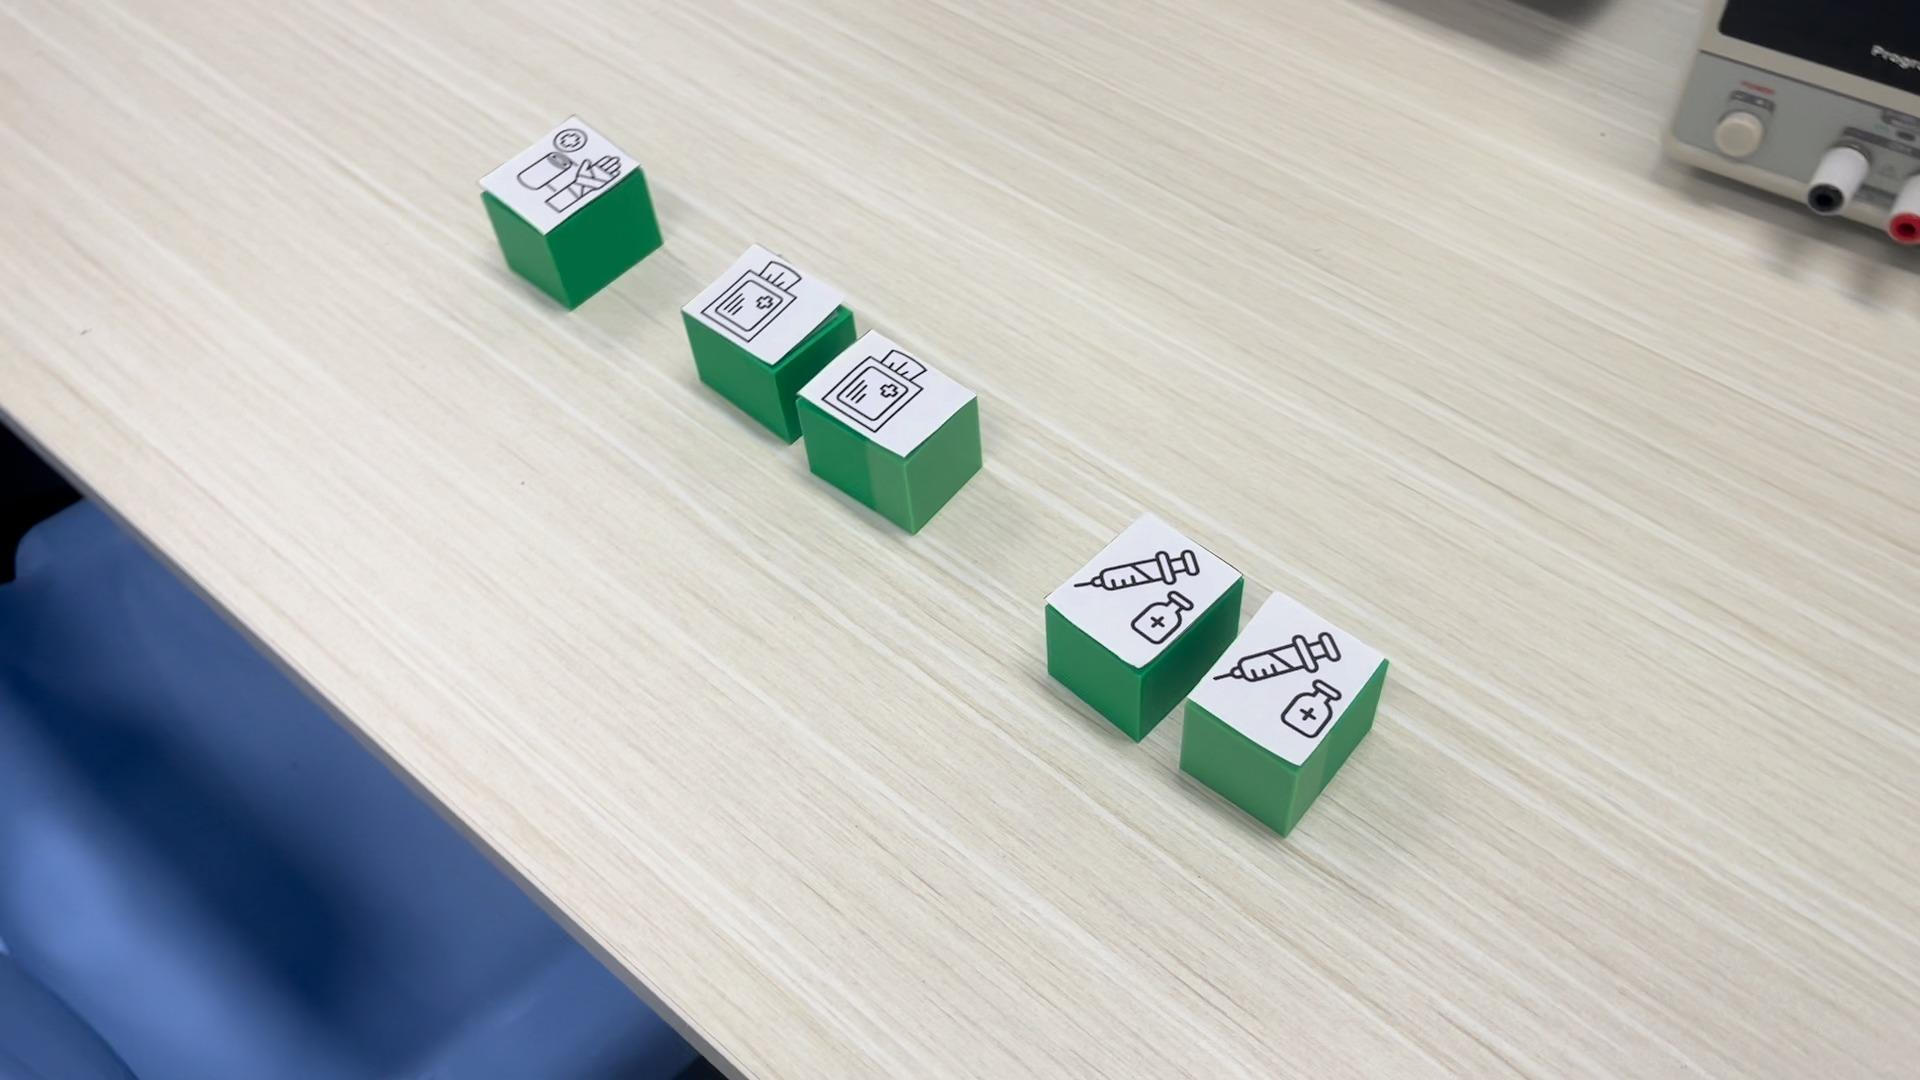Bandages: (477, 115, 665, 309)
Gauze: (795, 328, 984, 538), (680, 241, 848, 368)
antiseptic cream: (1189, 593, 1390, 839), (1039, 512, 1250, 742)
